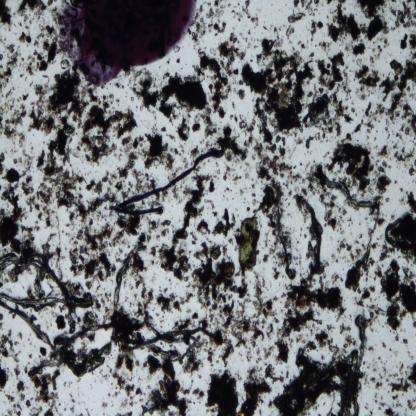Background material: (242, 37, 353, 142), (270, 345, 356, 415), (192, 242, 236, 365), (28, 69, 89, 155), (160, 172, 208, 280), (81, 83, 144, 162), (278, 269, 343, 337), (132, 64, 212, 117), (66, 223, 124, 287), (37, 151, 87, 221), (333, 135, 391, 193), (140, 349, 189, 415), (206, 367, 270, 415), (248, 134, 306, 184), (194, 46, 232, 117), (378, 57, 416, 122), (0, 183, 33, 254), (51, 347, 112, 378), (0, 90, 29, 148), (188, 0, 229, 41), (324, 0, 361, 42), (384, 209, 416, 256), (316, 184, 347, 232), (236, 214, 262, 270), (254, 269, 280, 325), (226, 31, 247, 100), (355, 0, 390, 40), (232, 306, 264, 348), (145, 127, 176, 170), (73, 193, 116, 224), (30, 376, 60, 416), (376, 260, 401, 306), (27, 38, 57, 76), (0, 35, 20, 92), (220, 126, 249, 165), (355, 57, 380, 102), (399, 266, 416, 329), (256, 180, 285, 216), (34, 182, 55, 230), (157, 287, 195, 311), (352, 100, 376, 137), (388, 362, 416, 392), (5, 155, 34, 183), (389, 0, 416, 29), (0, 328, 23, 362), (193, 109, 218, 140), (113, 372, 142, 398), (211, 208, 236, 237), (398, 102, 416, 142), (84, 172, 116, 194), (114, 345, 140, 372), (232, 3, 260, 28), (91, 289, 111, 324), (339, 235, 367, 260), (133, 276, 153, 310), (344, 258, 365, 290), (304, 332, 337, 352), (16, 0, 46, 22), (116, 150, 139, 178), (183, 346, 204, 376), (138, 218, 157, 250), (115, 213, 142, 235), (287, 8, 306, 38), (339, 321, 359, 349), (133, 169, 155, 193), (355, 284, 376, 308), (398, 31, 416, 59), (128, 202, 166, 215), (55, 213, 62, 281), (63, 308, 82, 332), (274, 337, 290, 365), (368, 303, 384, 331), (392, 141, 414, 161), (262, 366, 284, 386), (377, 242, 397, 263), (3, 393, 22, 415), (0, 0, 13, 32), (293, 0, 320, 15), (237, 277, 251, 305), (40, 233, 57, 256), (256, 344, 275, 364), (0, 365, 13, 393), (372, 37, 390, 57), (178, 115, 191, 142), (222, 165, 240, 184), (306, 164, 318, 192), (20, 175, 34, 198), (371, 388, 386, 409), (370, 357, 387, 375), (404, 190, 416, 213), (309, 17, 324, 35), (196, 219, 211, 236), (317, 39, 334, 54), (262, 23, 282, 35), (371, 372, 383, 392), (37, 24, 54, 38), (385, 320, 402, 333), (352, 41, 366, 56), (18, 31, 31, 46), (205, 346, 214, 367), (191, 388, 205, 401), (250, 184, 256, 214), (391, 394, 403, 409), (396, 188, 406, 206), (54, 314, 65, 330), (407, 158, 416, 177), (17, 380, 25, 401), (26, 196, 36, 212), (29, 404, 43, 415), (13, 363, 21, 381), (68, 394, 76, 412), (379, 336, 388, 352), (121, 399, 134, 410), (382, 406, 396, 416), (265, 322, 275, 336), (297, 38, 306, 53), (60, 57, 70, 70), (407, 398, 416, 411), (115, 410, 134, 416), (293, 185, 307, 193), (190, 146, 200, 157), (405, 349, 415, 360), (12, 156, 24, 165), (246, 348, 253, 363), (149, 245, 157, 258), (0, 154, 4, 177), (0, 311, 5, 329), (209, 176, 214, 194), (63, 380, 74, 388), (39, 346, 47, 357), (115, 179, 122, 191), (101, 399, 108, 410), (262, 252, 268, 264), (387, 126, 392, 140), (20, 71, 28, 79), (25, 399, 32, 408), (18, 331, 24, 341), (85, 406, 91, 416), (145, 383, 152, 391), (402, 336, 408, 345), (166, 56, 172, 65), (18, 20, 24, 28), (368, 343, 374, 351), (28, 350, 34, 358), (385, 196, 391, 204), (47, 0, 53, 7), (21, 57, 28, 63), (396, 334, 400, 342), (177, 57, 181, 64), (0, 53, 3, 62), (107, 392, 111, 397), (26, 24, 30, 29)
Cellulose filter fibre: (317, 169, 381, 269), (0, 253, 92, 307), (0, 306, 56, 350), (292, 194, 324, 271), (112, 244, 148, 312), (113, 326, 213, 346), (352, 314, 368, 414), (54, 320, 111, 348), (0, 291, 68, 309), (272, 209, 288, 276), (28, 358, 60, 377)
Cotton: (115, 148, 225, 210)
Diatom: (223, 260, 235, 277), (386, 305, 398, 320), (394, 62, 404, 76)
Pen: (57, 0, 197, 86)
